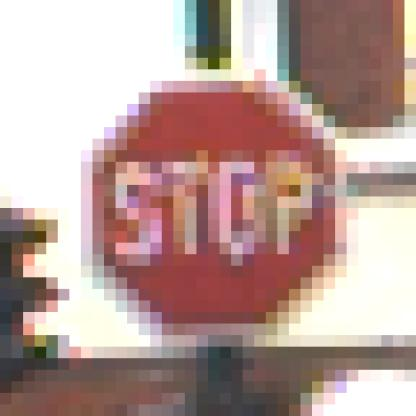stop: (63, 91, 373, 337)
